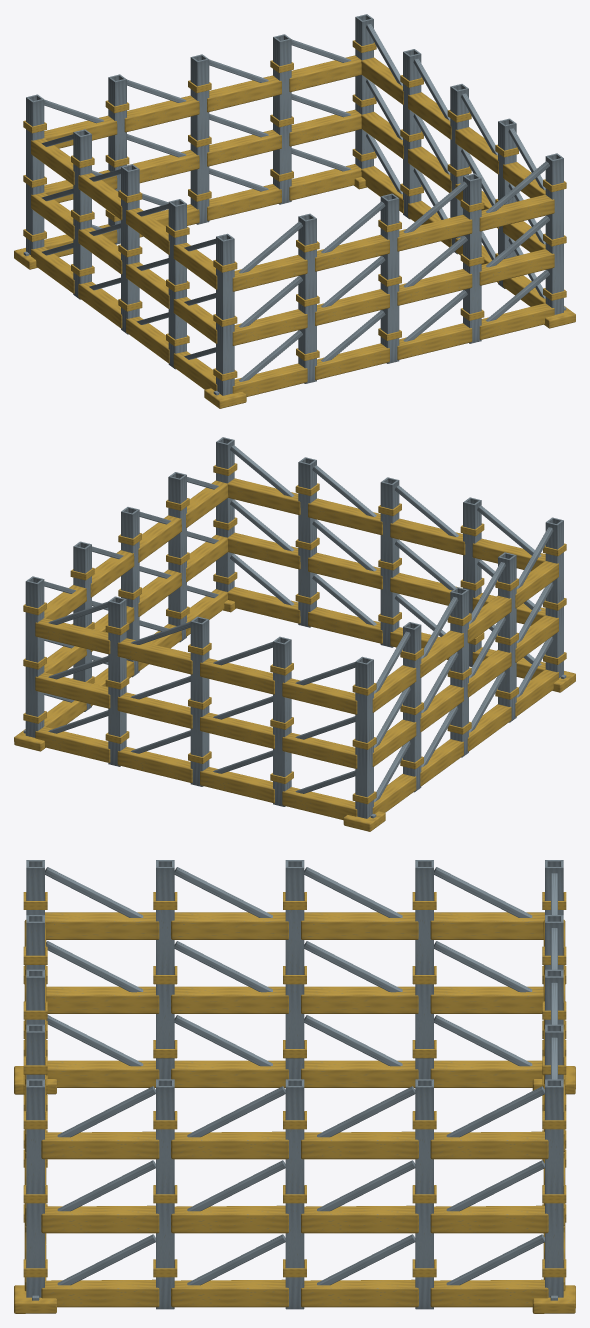
3 renders of one model, top to bottom at view 1: azimuth 30°, elevation 25°; view 2: azimuth 150°, elevation 25°; view 3: azimuth 270°, elevation 25°, orthographic. The views are drawn at different scales.
Visible parts, largest first — view 1: Tier 0 side 0 post 0, Tier 0 side 2 post 2, Tier 0 side 2 post 1, Tier 0 side 0 post 2, Tier 0 side 0 post 3, Tier 0 side 0 post 1, Tier 0 side 1 post 0, Tier 0 side 3 post 3, Tier 0 side 3 post 1, Tier 0 side 3 post 2, Tier 0 side 3 post 0, Tier 0 side 1 post 3 (+61 smaller); view 2: Tier 0 side 3 post 0, Tier 0 side 2 post 0, Tier 0 side 2 post 2, Tier 0 side 0 post 2, Tier 0 side 2 post 1, Tier 0 side 2 post 3, Tier 0 side 0 post 3, Tier 0 side 1 post 1, Tier 0 side 3 post 1, Tier 0 side 3 post 3, Tier 0 side 3 post 2, Tier 0 side 0 post 0 (+56 smaller); view 3: Tier 0 side 1 post 2, Tier 0 side 1 post 0, Tier 0 side 2 post 0, Tier 0 side 1 post 1, Tier 0 side 1 post 3, Tier 0 side 3 post 2, Tier 0 side 3 post 1, Tier 0 side 3 post 3, Tier 0 bay 1-2-3 service deck, Tier 0 bay 1-2-0 service deck, Tier 0 bay 1-1-3 service deck, Tier 0 bay 1-1-0 service deck (+54 smaller).
Part boxes in pixels (x1,y1,x2,y2): Tier 0 side 0 post 0: (216,233,234,395); Tier 0 side 2 post 2: (190,54,209,224); Tier 0 side 2 post 1: (273,34,291,204); Tier 0 side 0 post 2: (380,193,399,363); Tier 0 side 0 post 3: (463,173,481,343); Tier 0 side 0 post 1: (298,213,316,383); Tier 0 side 1 post 0: (545,153,563,314); Tier 0 side 3 post 3: (168,199,186,369); Tier 0 side 3 post 1: (73,129,91,299); Tier 0 side 3 post 2: (121,164,139,334); Tier 0 side 3 post 0: (26,94,44,254); Tier 0 side 1 post 3: (403,49,421,219); Tier 0 side 3 post 0: (355,656,373,818); Tier 0 side 2 post 0: (25,576,44,737); Tier 0 side 2 post 2: (190,616,209,786); Tier 0 side 0 post 2: (380,477,399,647); Tier 0 side 2 post 1: (108,596,126,766); Tier 0 side 2 post 3: (273,636,291,806); Tier 0 side 0 post 3: (298,457,316,627); Tier 0 side 1 post 1: (168,472,186,642); Tier 0 side 3 post 1: (403,622,421,792); Tier 0 side 3 post 3: (498,552,516,722); Tier 0 side 3 post 2: (450,587,468,757); Tier 0 side 0 post 0: (545,517,563,677); Tier 0 side 1 post 2: (285,1079,304,1309); Tier 0 side 1 post 0: (26,1079,44,1297); Tier 0 side 2 post 0: (545,1079,563,1297); Tier 0 side 1 post 1: (156,1079,174,1309); Tier 0 side 1 post 3: (415,1079,433,1309); Tier 0 side 3 post 2: (285,860,304,1079); Tier 0 side 3 post 1: (415,860,433,1079); Tier 0 side 3 post 3: (156,860,174,1079); Tier 0 bay 1-2-3 service deck: (430,1131,548,1159); Tier 0 bay 1-2-0 service deck: (41,1131,159,1159); Tier 0 bay 1-1-3 service deck: (430,1205,548,1233); Tier 0 bay 1-1-0 service deck: (41,1205,159,1233).
Size of the model in its own units: 1.95 by 0.8503 by 1.95.
Materials: 2 (2 with a texture image).
